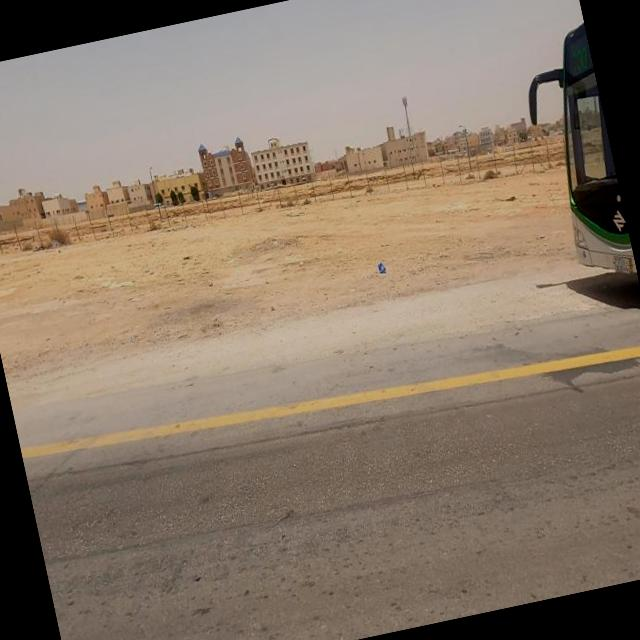debris: (346, 227, 408, 309)
